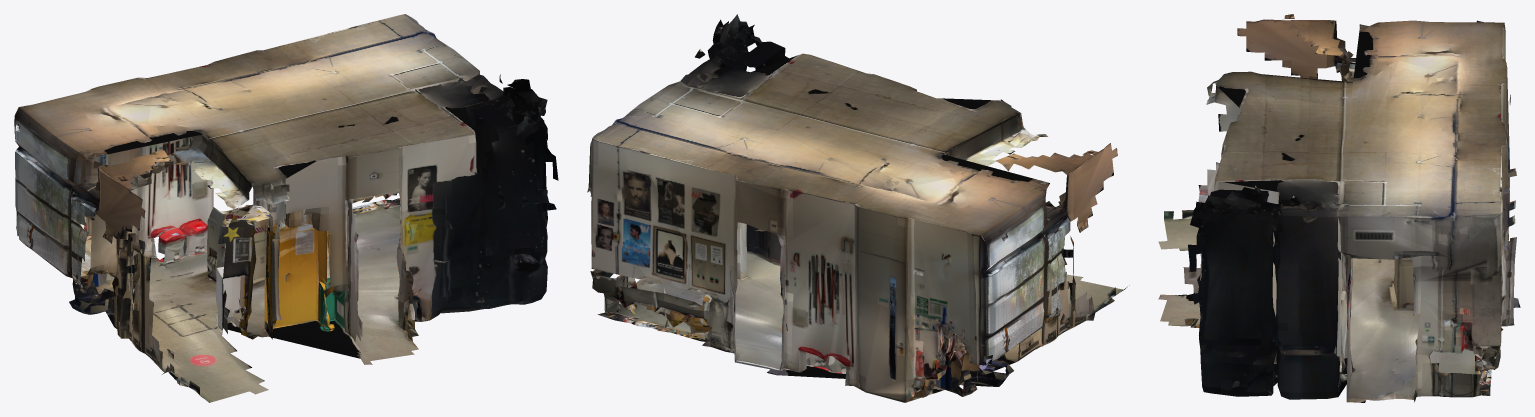
Rendered from MG_photo_2-IM.fbx.
3 views of the same model, side by side, from view 1: azimuth 30°, elevation 25°; view 2: azimuth 150°, elevation 25°; view 3: azimuth 270°, elevation 25° (orthographic). The views are drawn at different scales.
Parts seen in each view (by area): view 1: MG_photo_2-IM; view 2: MG_photo_2-IM; view 3: MG_photo_2-IM.
Part boxes in pixels (bbox=[...]): MG_photo_2-IM: bbox=[14, 14, 558, 402]; MG_photo_2-IM: bbox=[587, 14, 1129, 402]; MG_photo_2-IM: bbox=[1158, 14, 1520, 402].
Bounding box in the file's own units: 751 × 367 × 563.
Materials: 1 (1 with a texture image).
